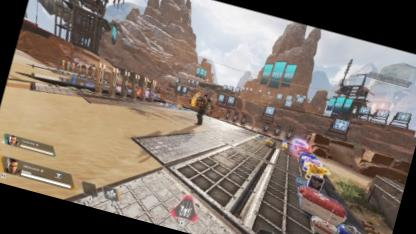Target: (192, 91, 212, 127)
